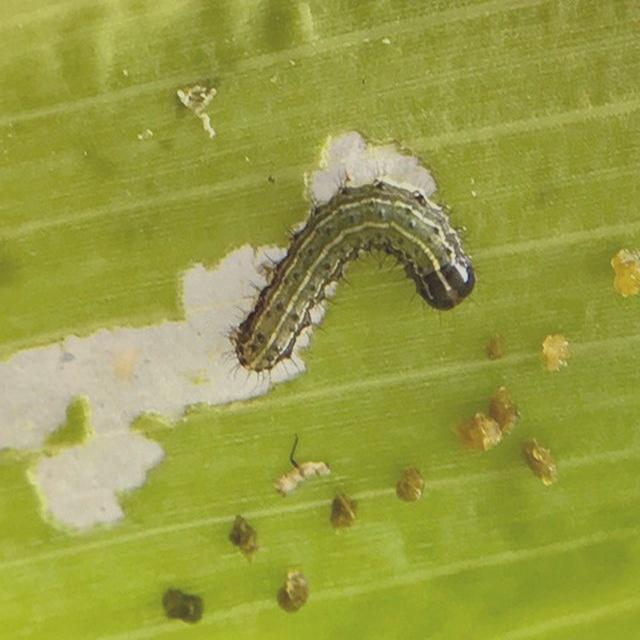gusano_cogollero: (238, 178, 468, 372)
